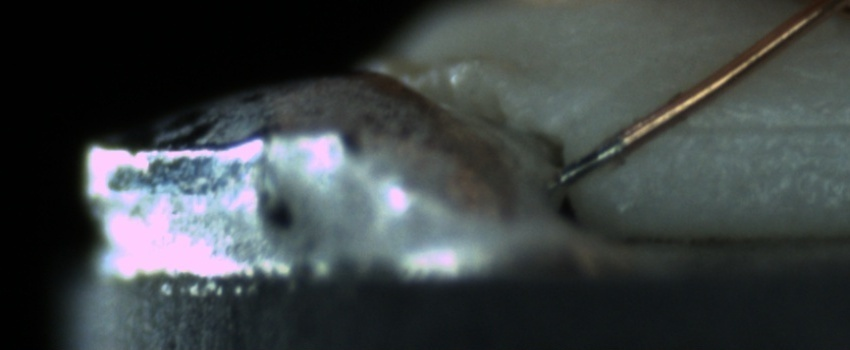CL: (780, 0, 850, 32)
DL: (677, 92, 849, 159)
TS: (558, 135, 624, 188)
TTCW: (556, 113, 654, 186)
